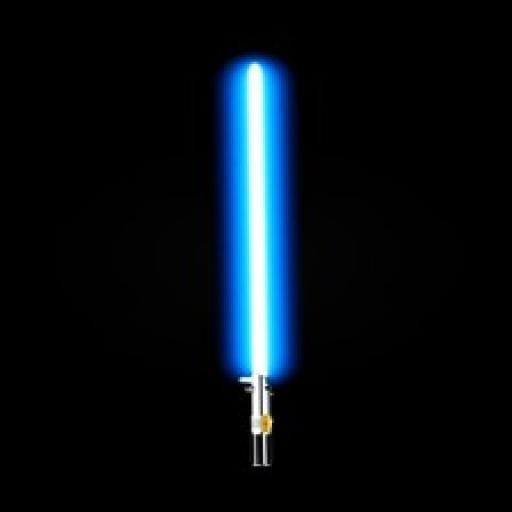lightsaber: (238, 60, 276, 470)
